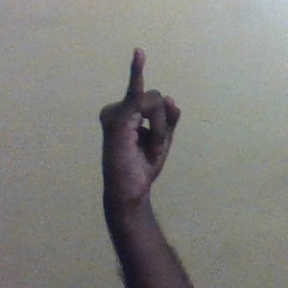I: (96, 44, 185, 197)
